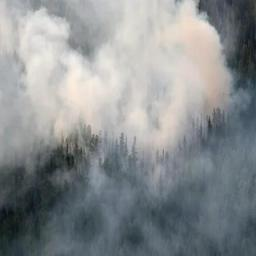Heavy smoke: (1, 0, 256, 256)
